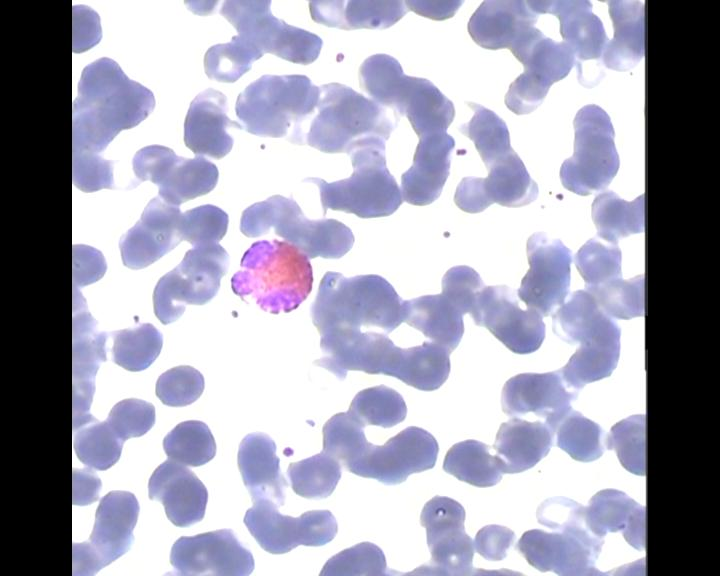eosi: (225, 233, 316, 323)
